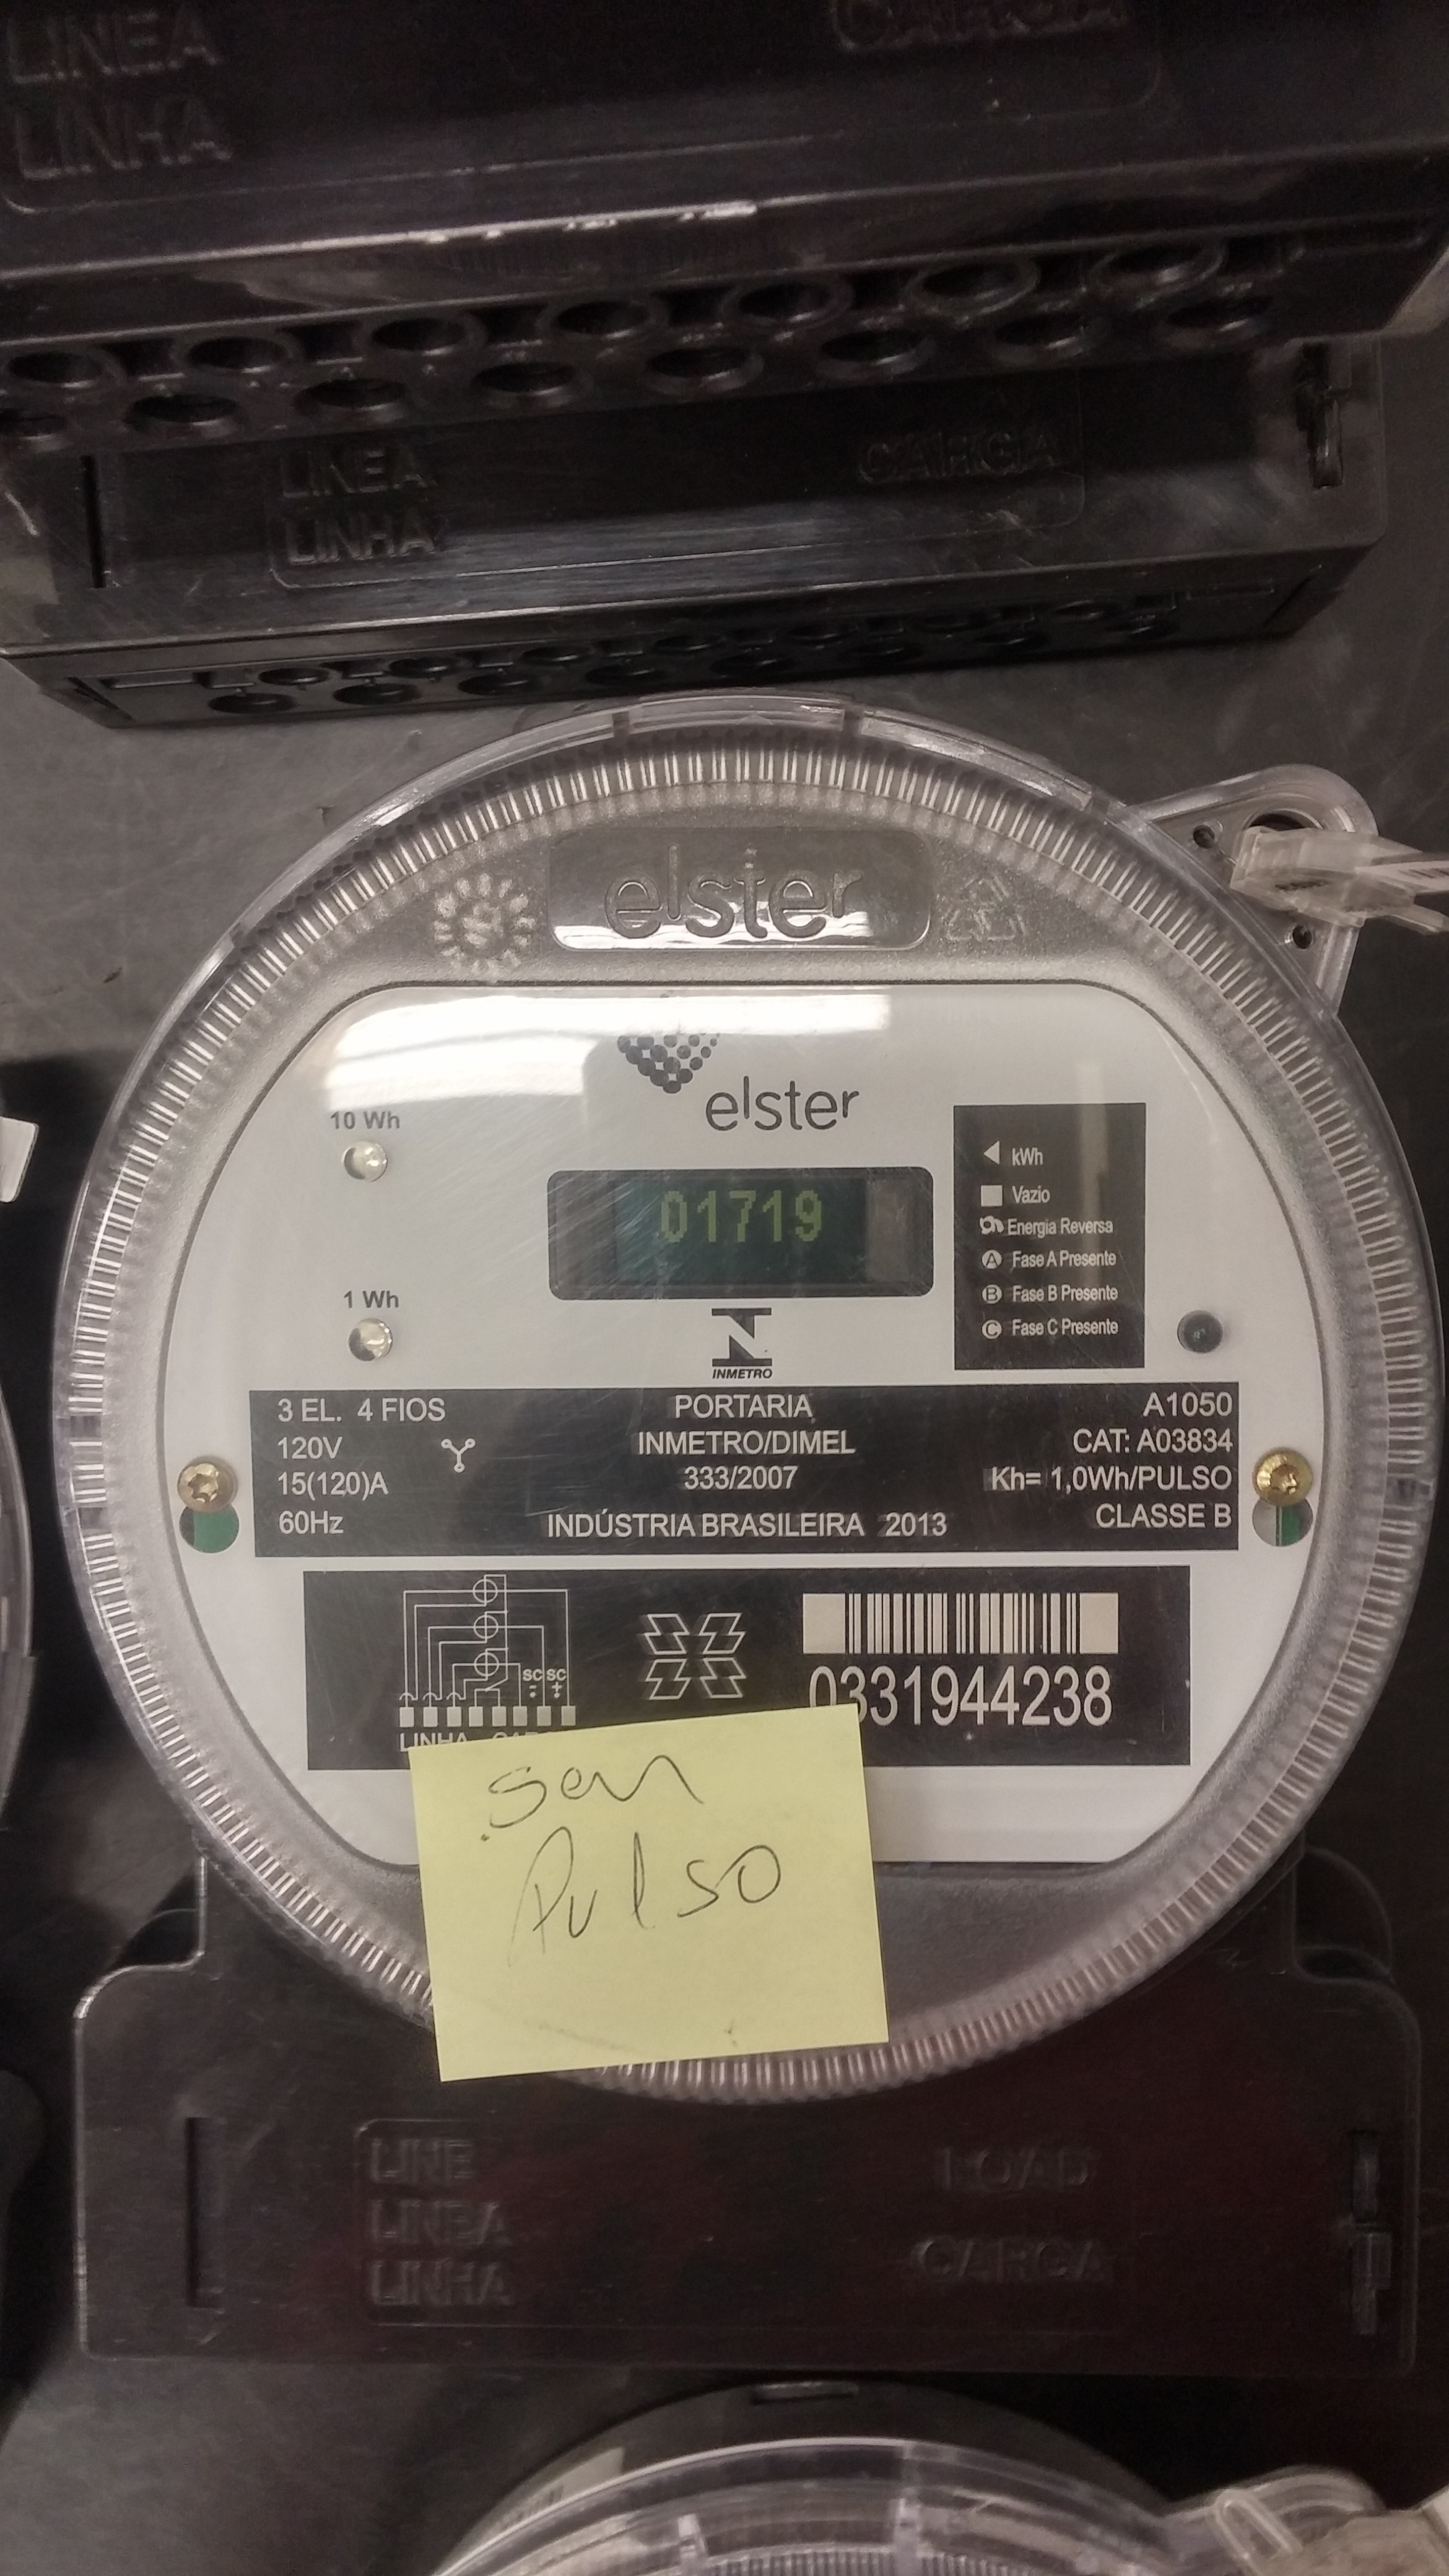counter: (596, 1175, 890, 1272)
